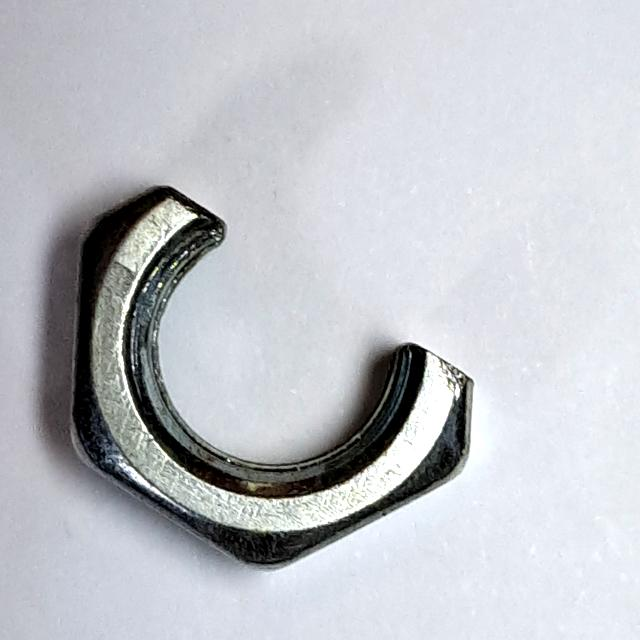Fracture: (53, 173, 495, 587)
